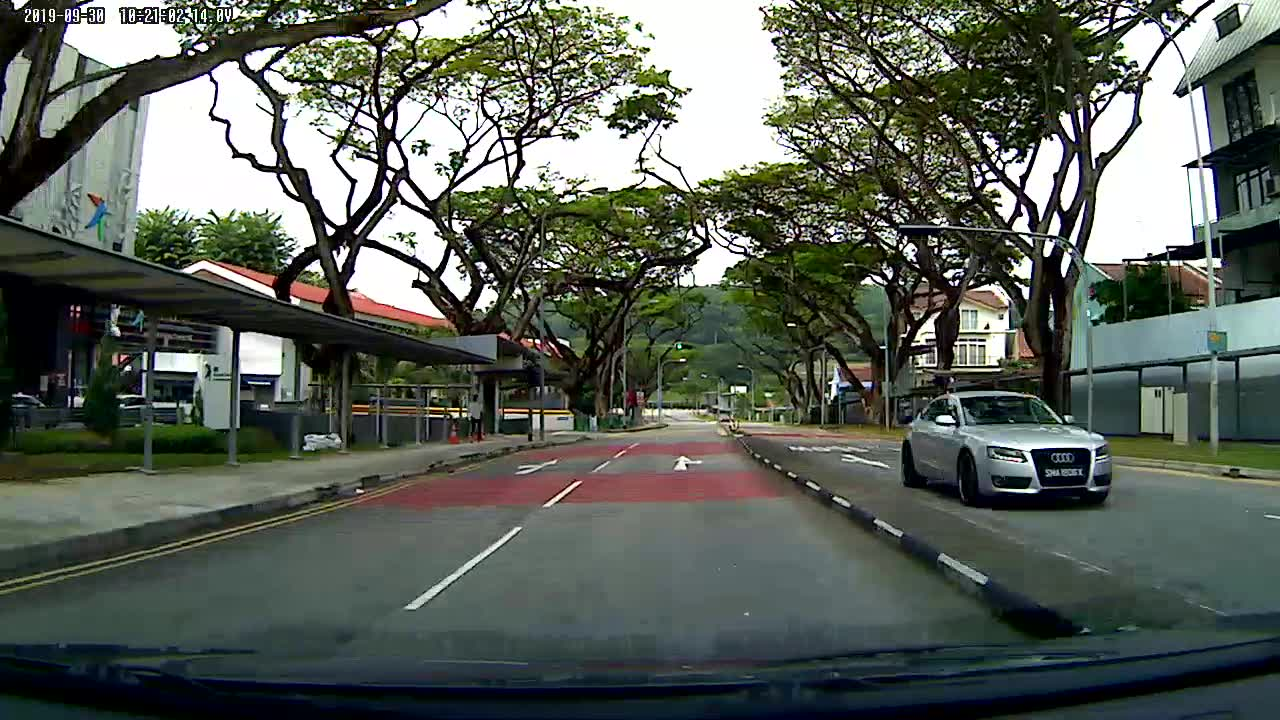car: (904, 387, 1114, 509)
